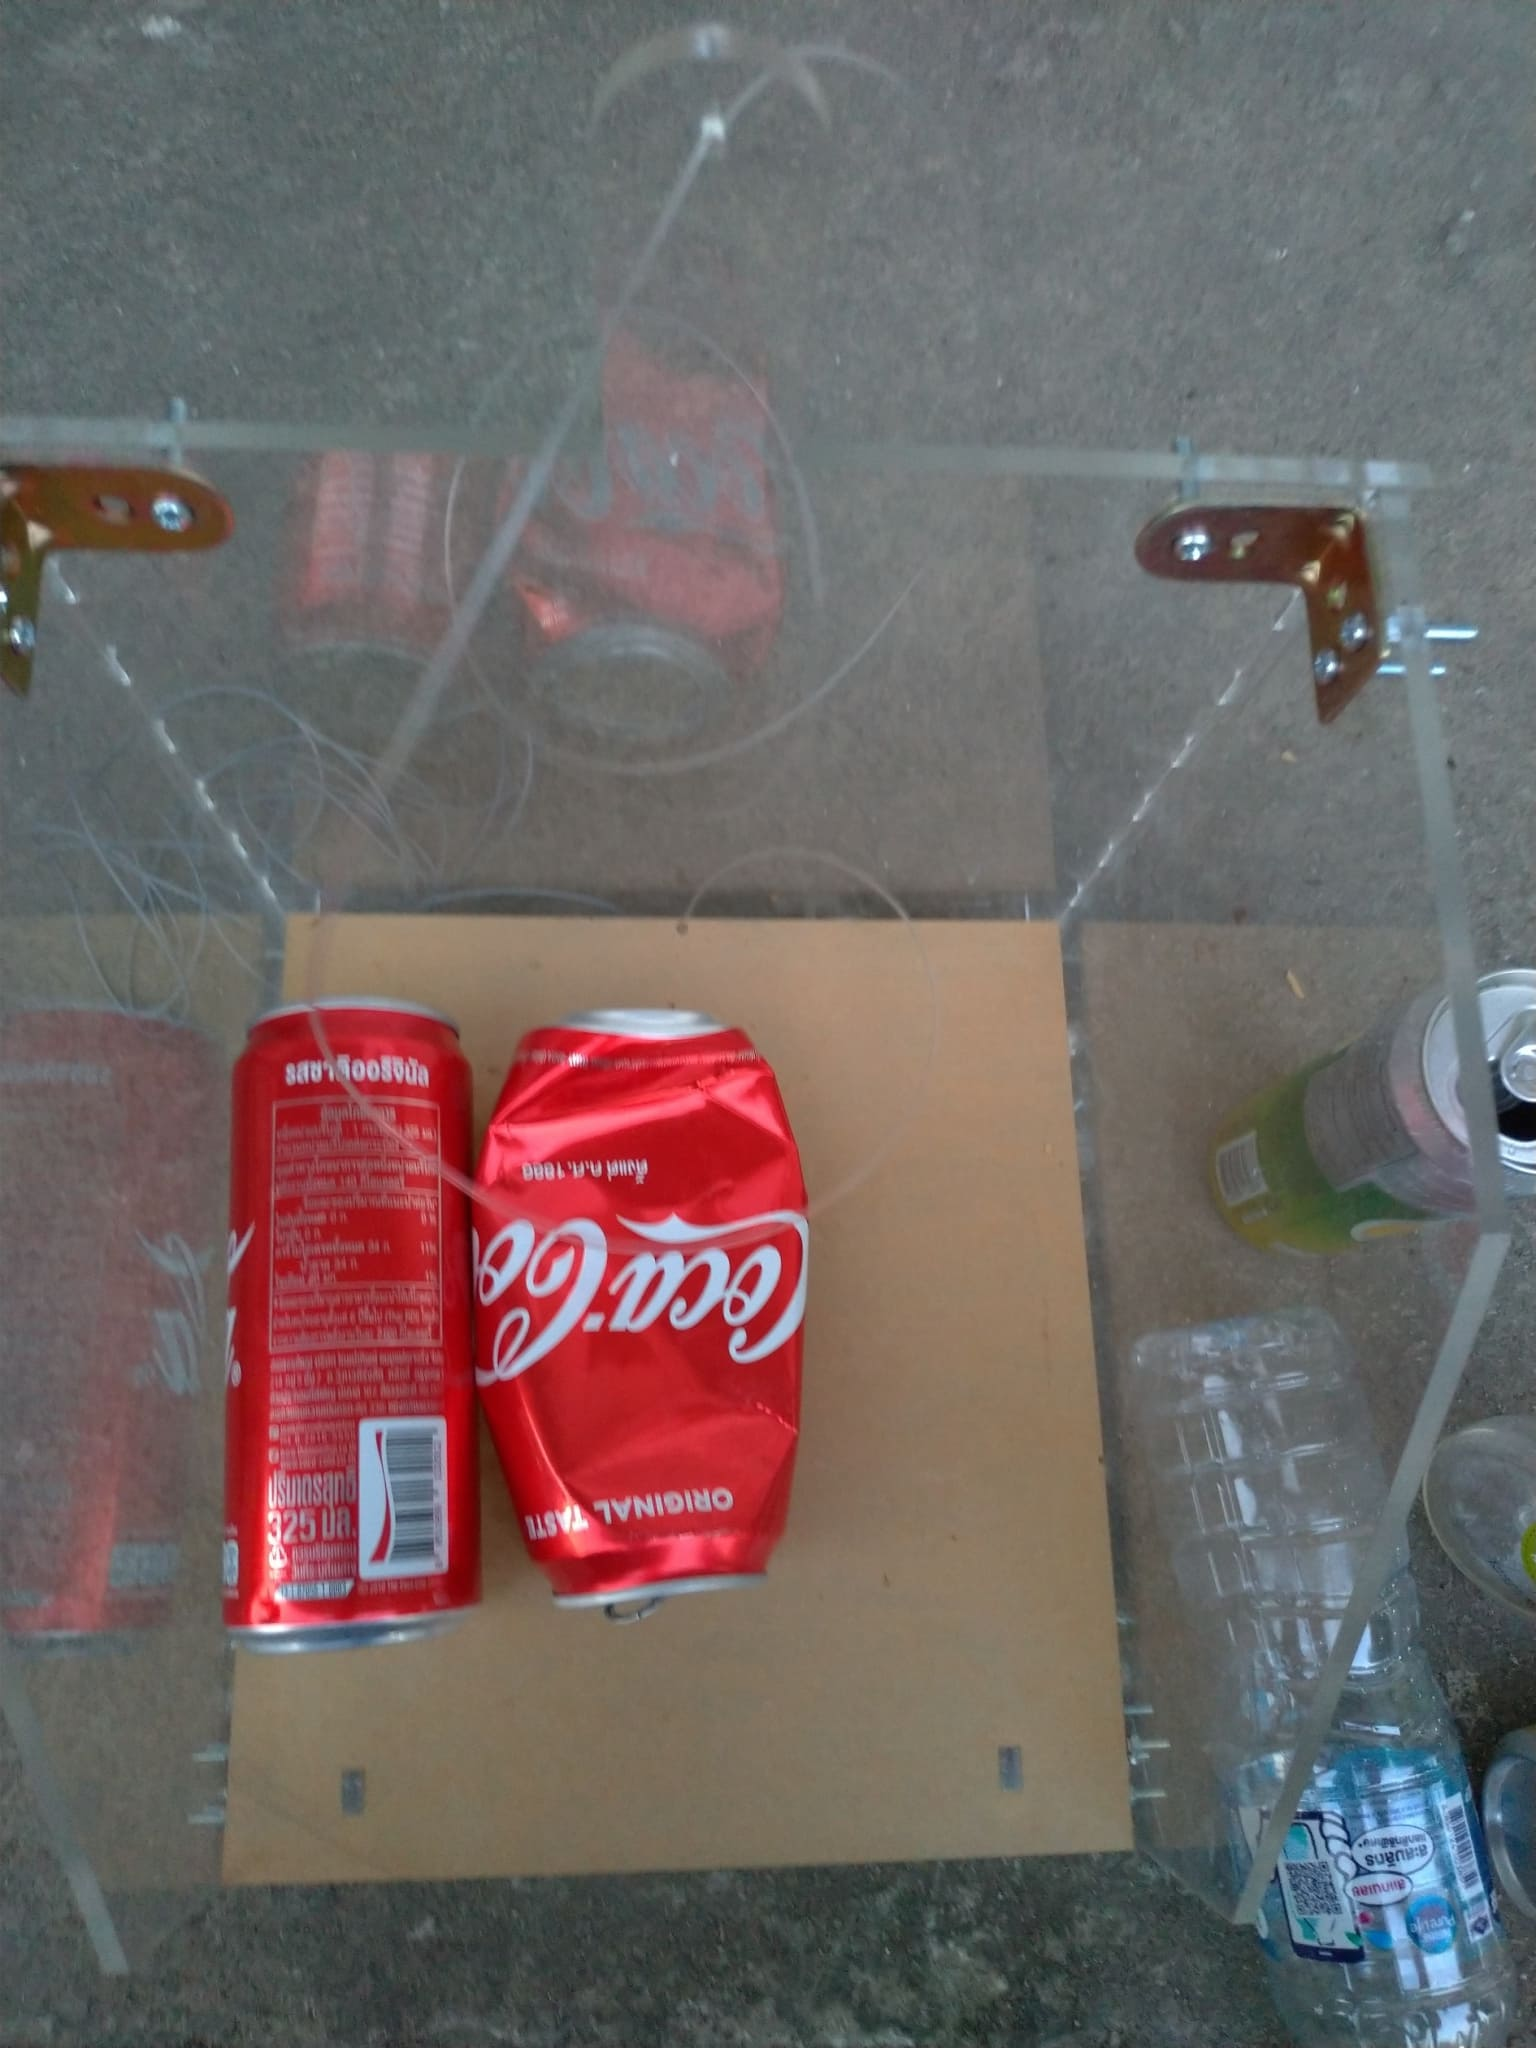AlCan: (474, 1000, 803, 1596), (227, 1006, 470, 1648), (1200, 964, 1536, 1263)
PlasticBottle: (1107, 1306, 1499, 2048)
